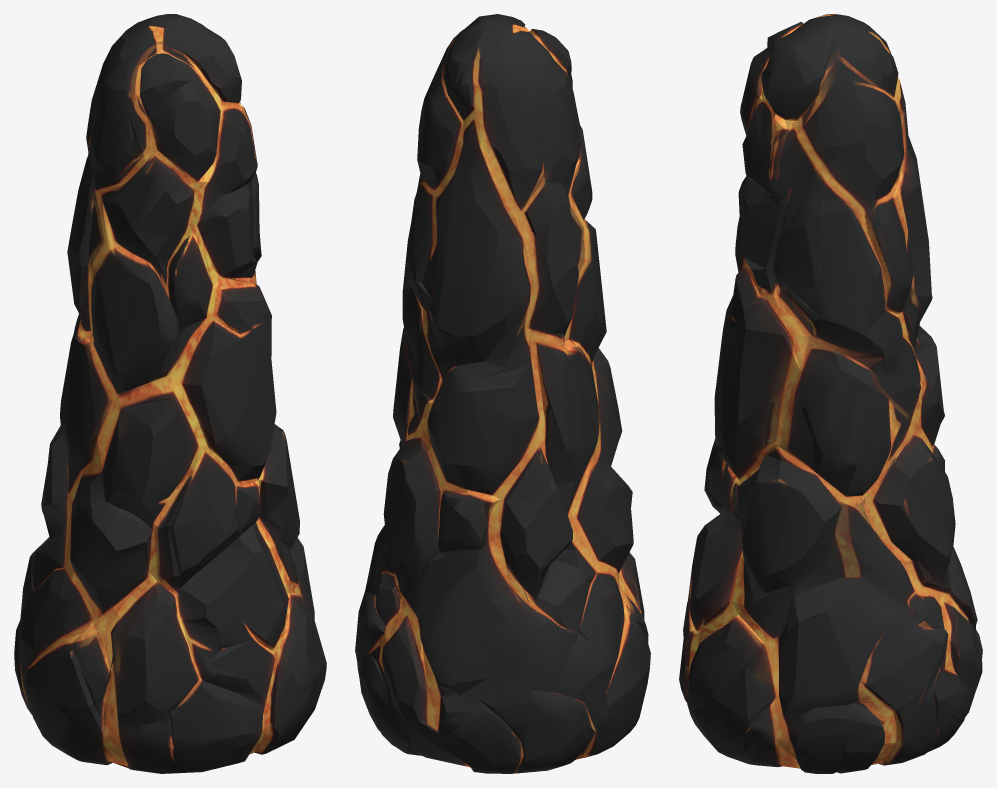
File: prop.glb
3 views of the same model, side by side, from view 1: azimuth 30°, elevation 25°; view 2: azimuth 150°, elevation 25°; view 3: azimuth 270°, elevation 25° (orthographic).
Size of the model in its own units: 0.7323 by 1.9 by 0.7418.
1 material, 1 textured.
